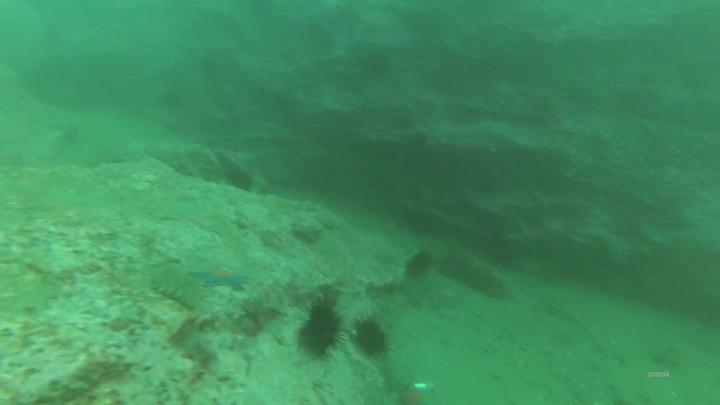echinus: (295, 300, 348, 358), (355, 320, 396, 357), (404, 249, 432, 281), (227, 169, 255, 192)
starfish: (193, 262, 257, 296)
